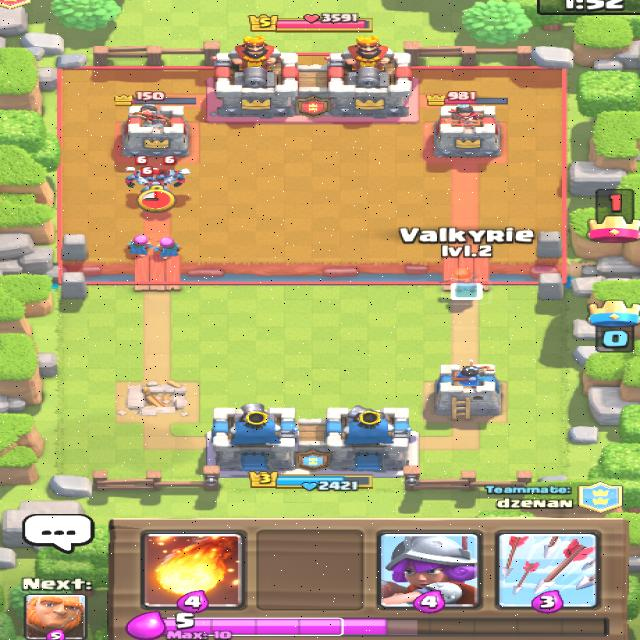Enemy-Minion: (121, 155, 156, 188), (158, 155, 190, 188), (139, 166, 168, 193)
Player-Archer: (125, 232, 152, 256), (153, 237, 182, 258)
